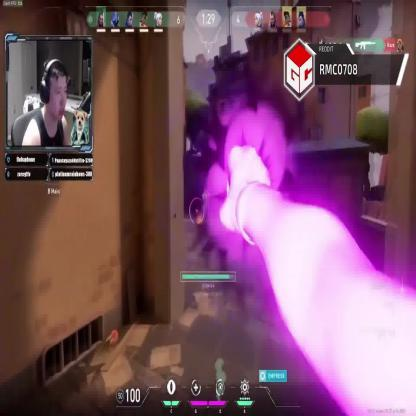enemy: (202, 187, 210, 217)
enemy_head: (204, 188, 206, 194)
